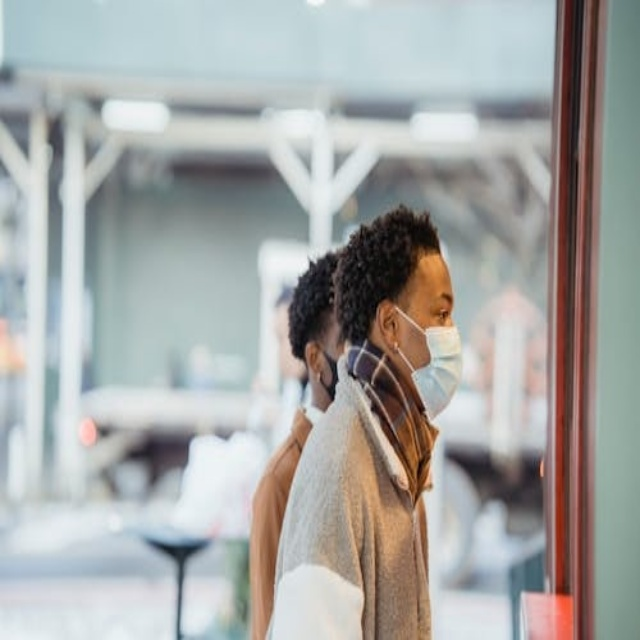Mascara: (388, 298, 461, 423), (310, 342, 337, 398)
Sin_gafas: (420, 286, 458, 329)
